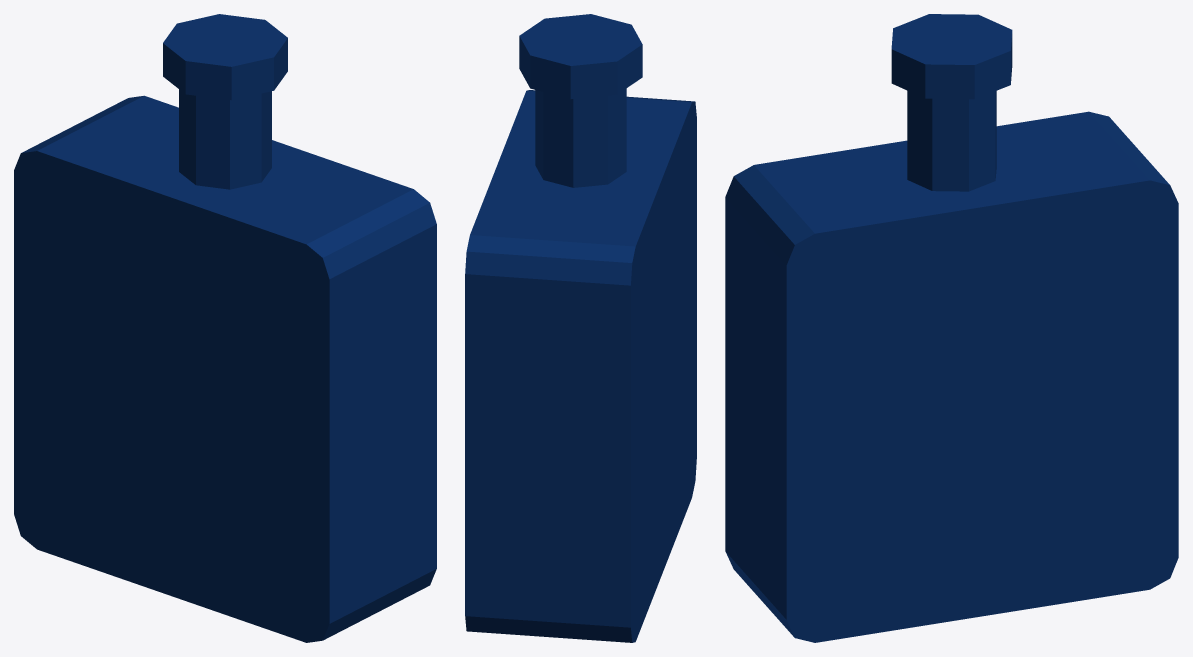
File: Flask.glb
3 views of the same model, side by side, from view 1: azimuth 30°, elevation 25°; view 2: azimuth 150°, elevation 25°; view 3: azimuth 270°, elevation 25° (orthographic). The views are drawn at different scales.
Visible parts, largest first — view 1: Flask; view 2: Flask; view 3: Flask.
Boxes of the visible parts, x1=… form: Flask: x1=14, y1=14, x2=436, y2=642; Flask: x1=465, y1=14, x2=696, y2=642; Flask: x1=725, y1=14, x2=1178, y2=642.
Size of the model in its own units: 0.098 by 0.1891 by 0.1433.
1 material, 1 textured.
